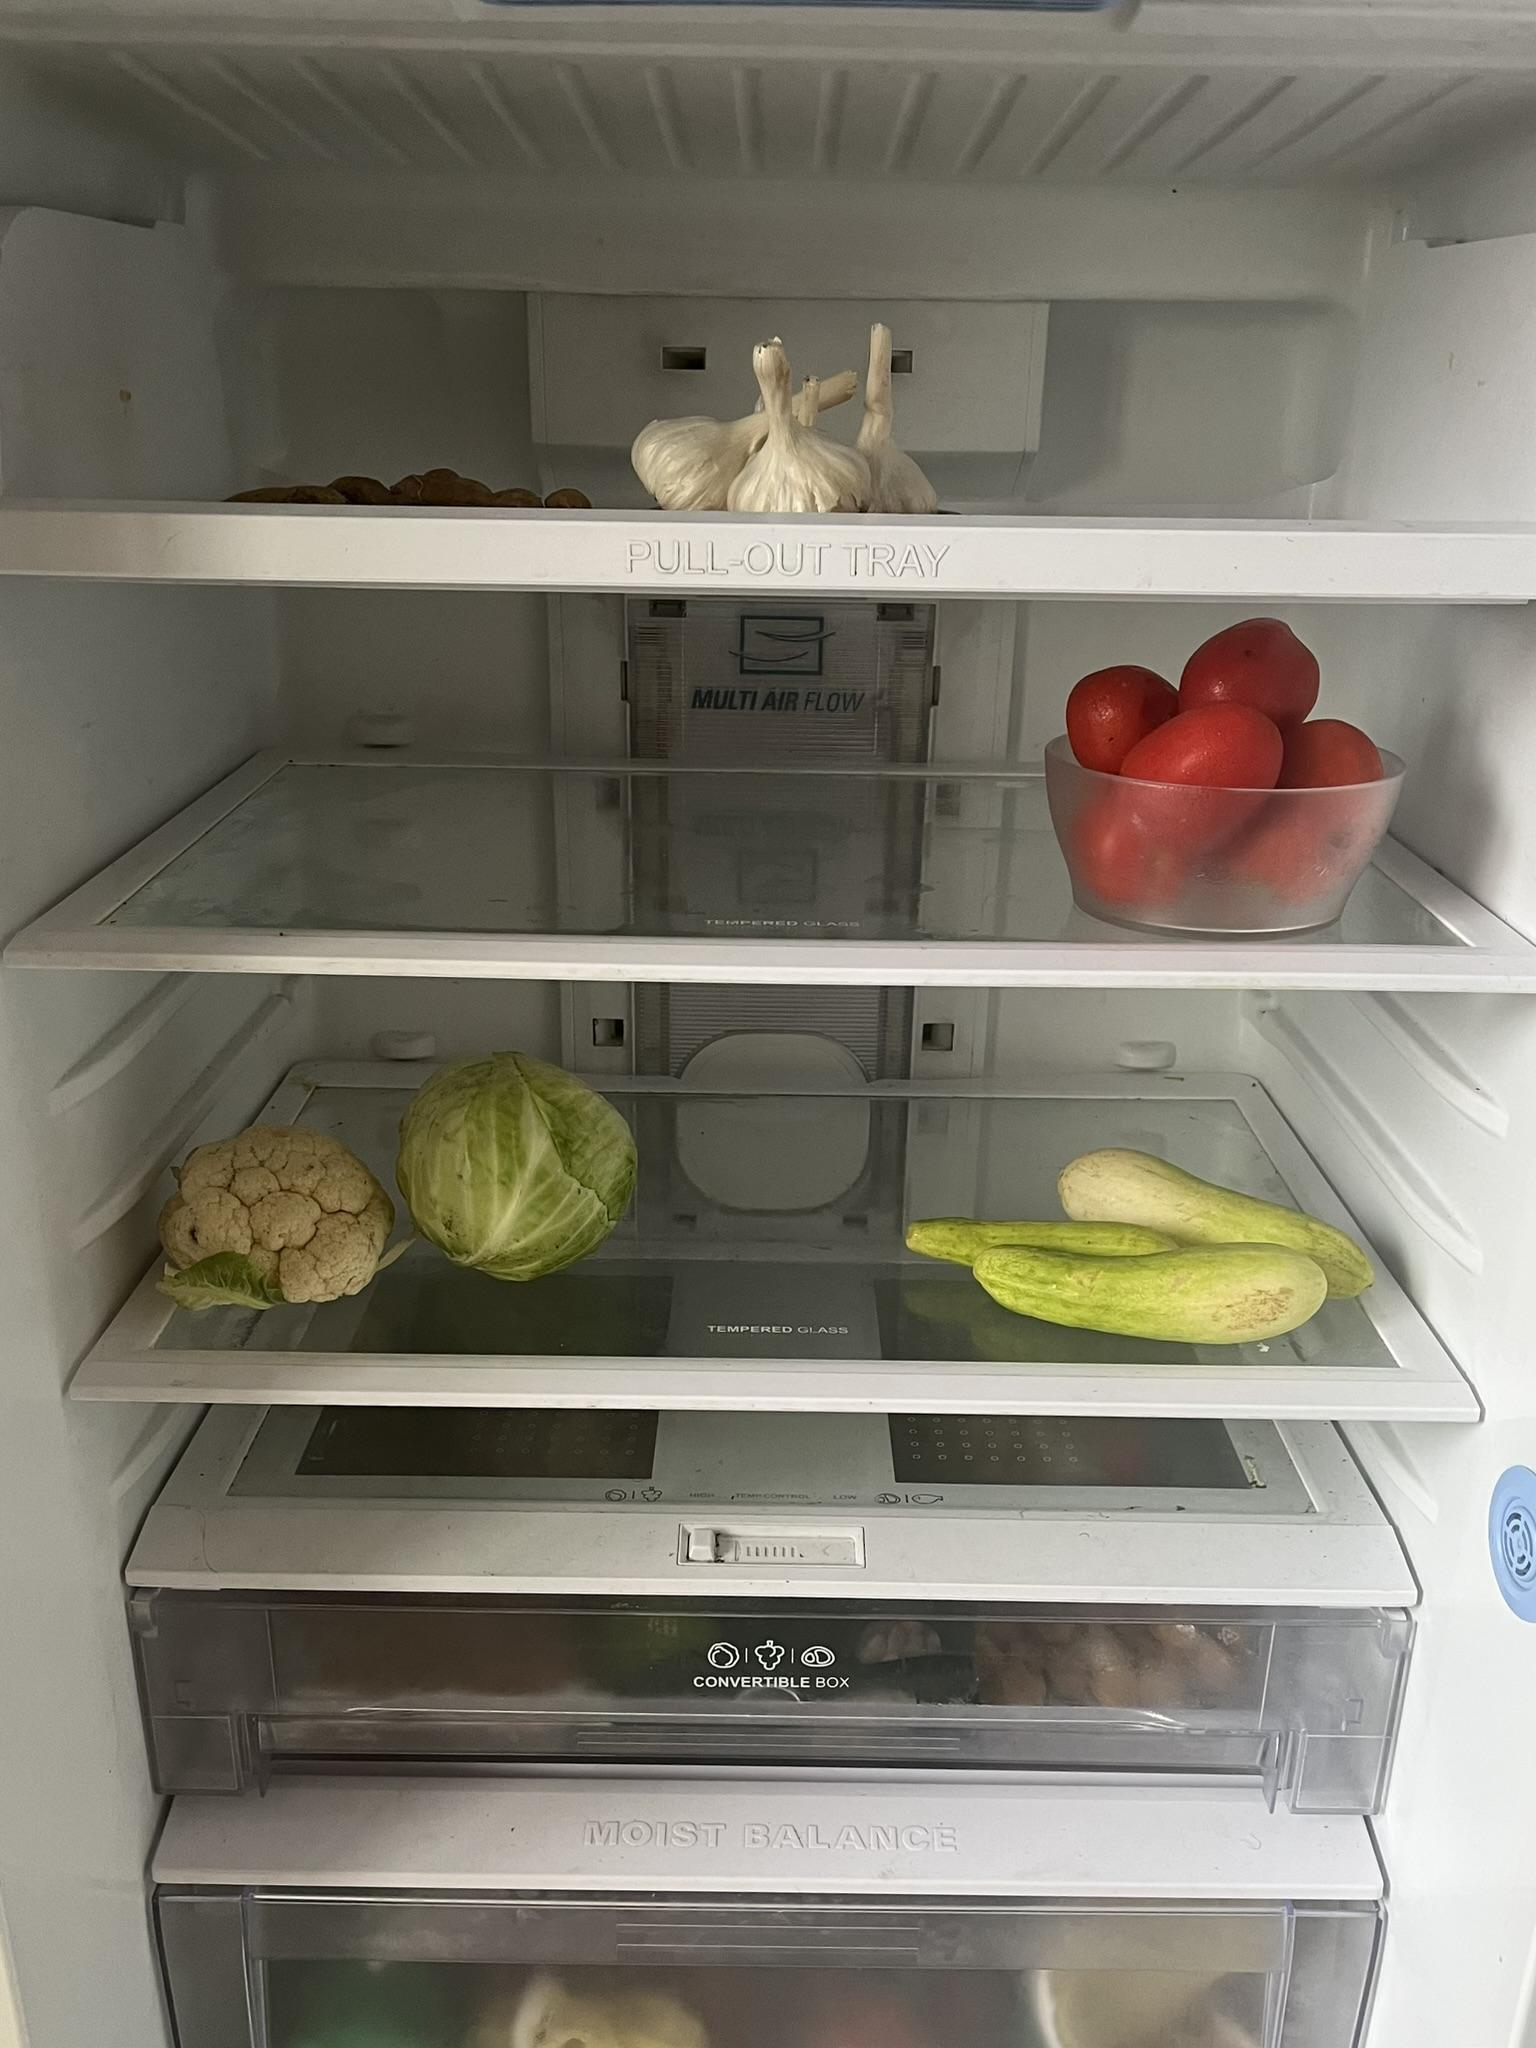cabbage: (394, 1047, 653, 1290)
cauliflower: (897, 1137, 1391, 1353), (153, 1124, 407, 1316)
garlic: (616, 313, 950, 524)
ginger: (210, 463, 603, 513)
tomato: (1054, 610, 1413, 937)
